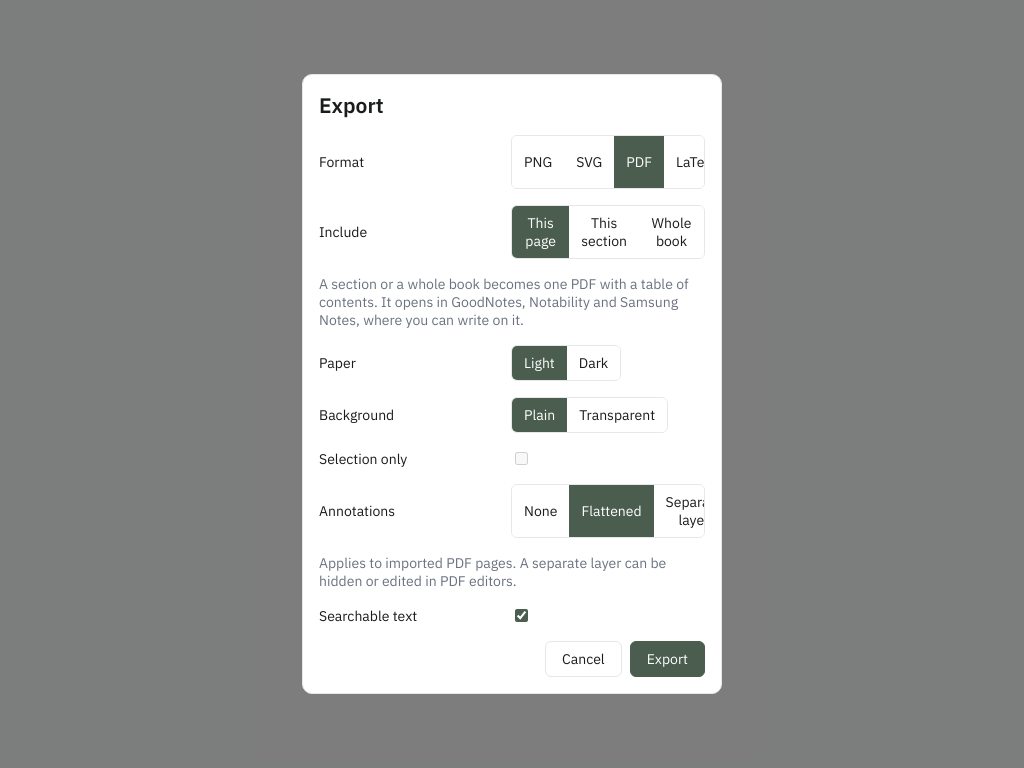
ExportDialog annotations › offers_annotations_with_placements_and_layer_only_for_pdf
Check: the element named "Annotations" is shown, box 511,484 -> 705,538
Check: the button "Separate layer" is shown, box 654,485 -> 705,537
Click the button "PNG": (538, 162) 512,136 -> 564,188
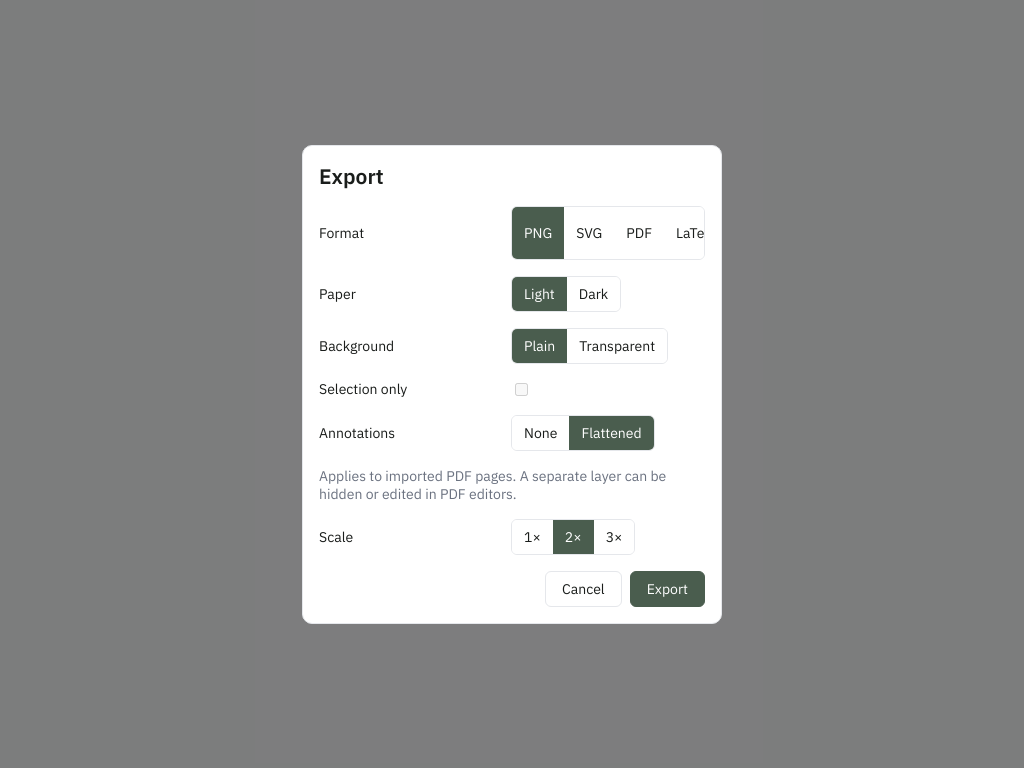
Check: the element named "Annotations" is shown, box 511,414 -> 655,450
Click the button "LaTeX": (694, 232) 664,206 -> 725,258
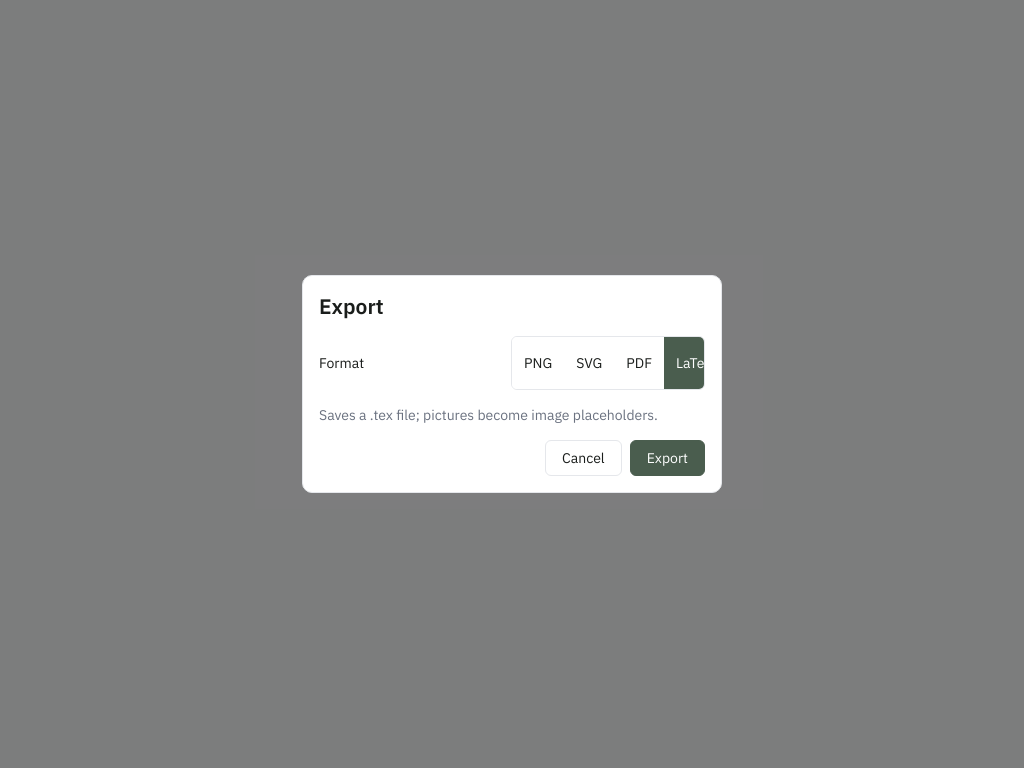
Check: the text "Annotations" is gone
